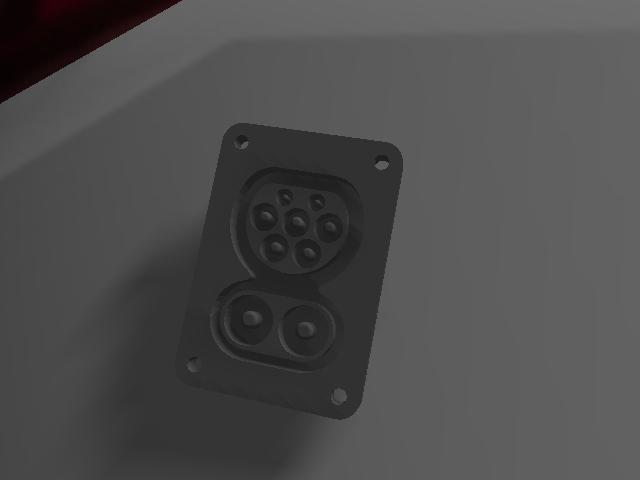EV-socket: (168, 123, 402, 418)
